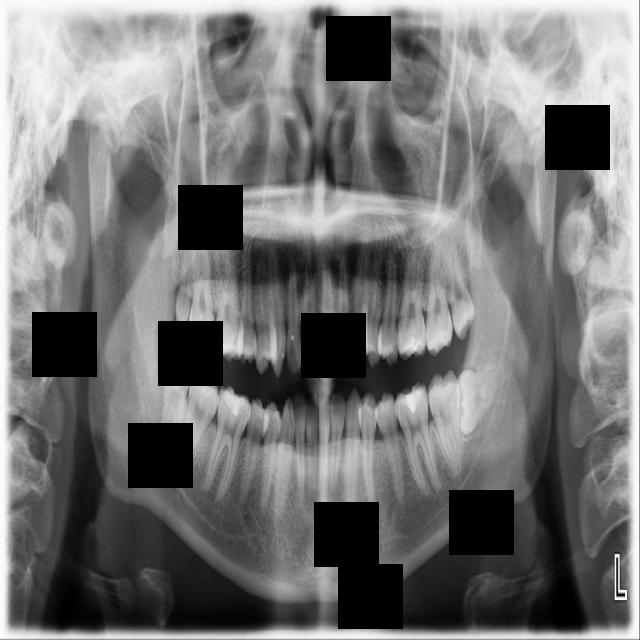3M ESPE Implant: (174, 235, 195, 331)
52: (206, 381, 259, 436), (385, 378, 438, 429), (393, 314, 431, 362), (212, 313, 246, 364), (267, 322, 287, 377), (300, 325, 319, 375), (285, 329, 303, 374), (336, 322, 353, 369)
73: (522, 518, 530, 534)
BioHorizons Implant: (425, 238, 453, 358)
BioLife Implant: (444, 239, 478, 341)
Biomet 3i Implant: (441, 352, 505, 442)
Blue Sky Bio Implant: (425, 368, 469, 479)
Caries: (183, 225, 216, 353)
Implant: (172, 362, 227, 475)
Keystone Dental Implant: (158, 352, 192, 447)
